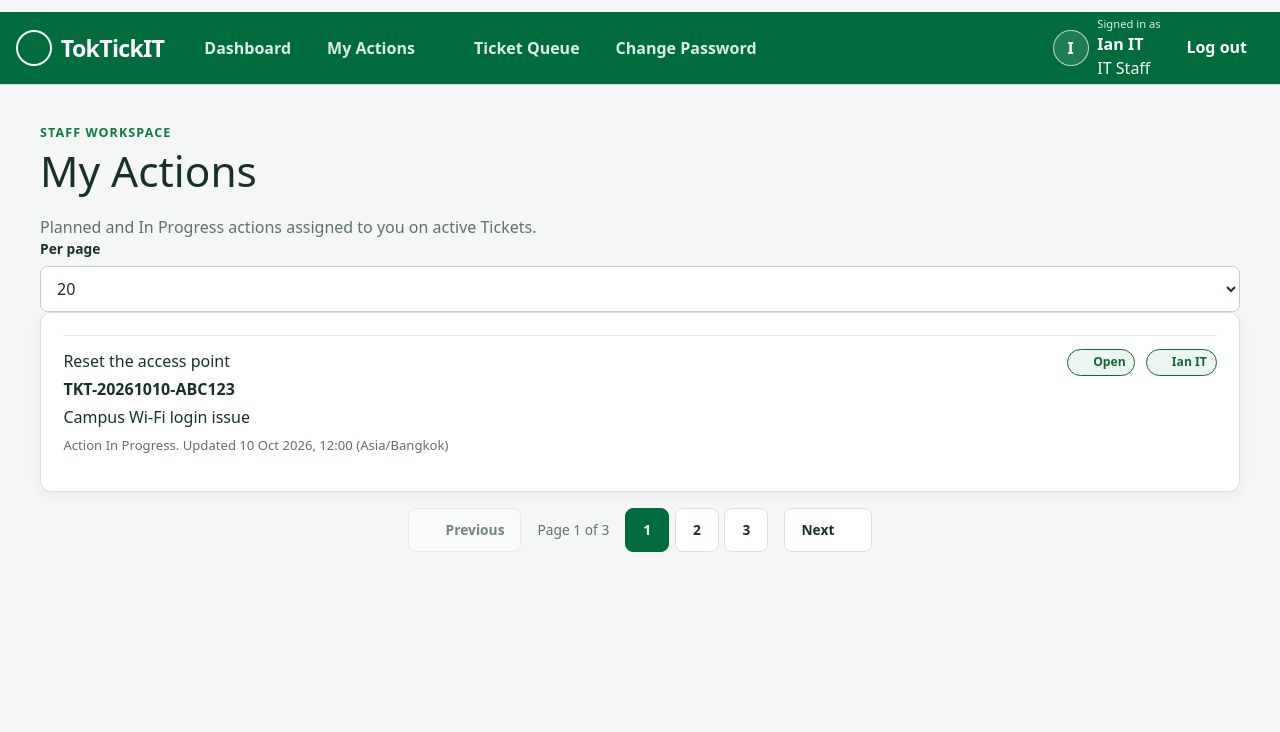
it: Staff My Actions UI › moves between pages with Previous, Next, and numbered controls
Check: the navigation bar named "My Actions pages" is shown, box [408,508,872,552]
Check: the text "Page 1 of 3" is shown, box [538,520,609,540]
Click the button "Next" at (828, 530), box [784,508,872,552]
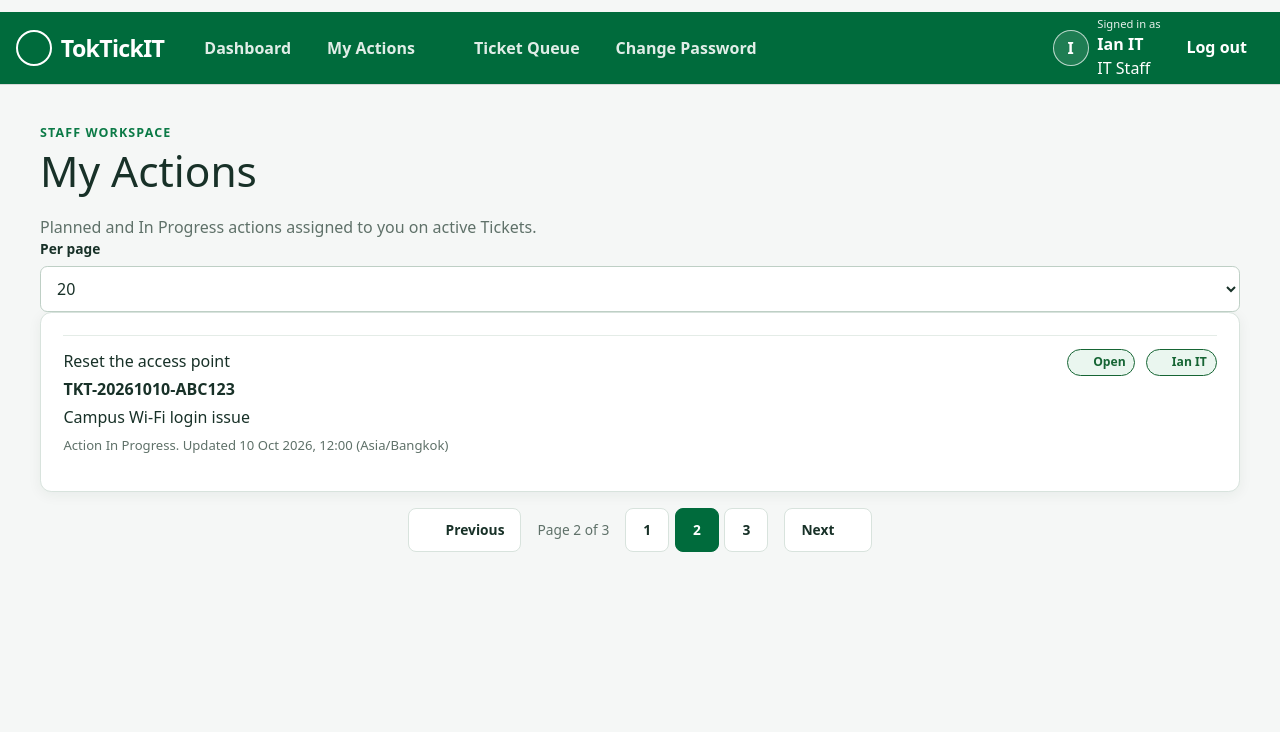
Check: the text "Page 2 of 3" is shown, box [538,520,609,540]
Click the button named "Go to page 3" at (746, 530), box [724,508,768,552]
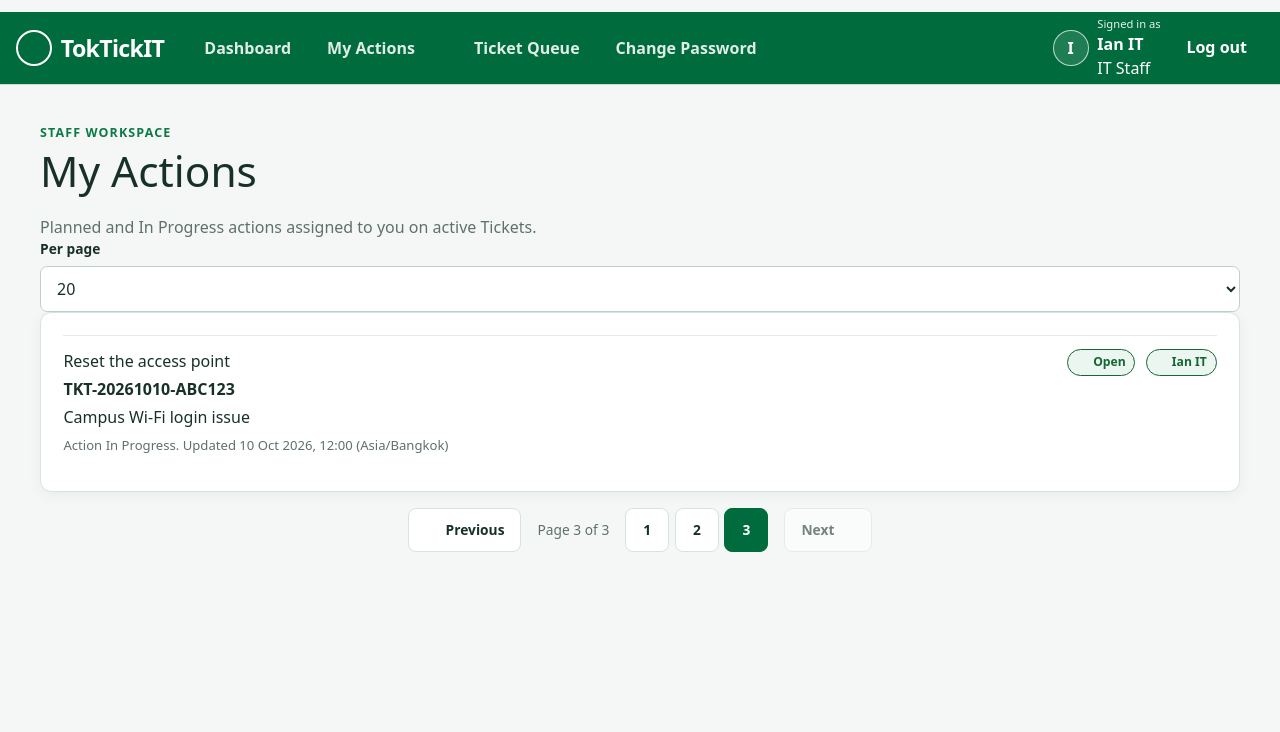
Check: the text "Page 3 of 3" is shown, box [538,520,609,540]
Check: the button "Next" is disabled, box [784,508,872,552]
Click the button "Previous" at (465, 530), box [408,508,522,552]
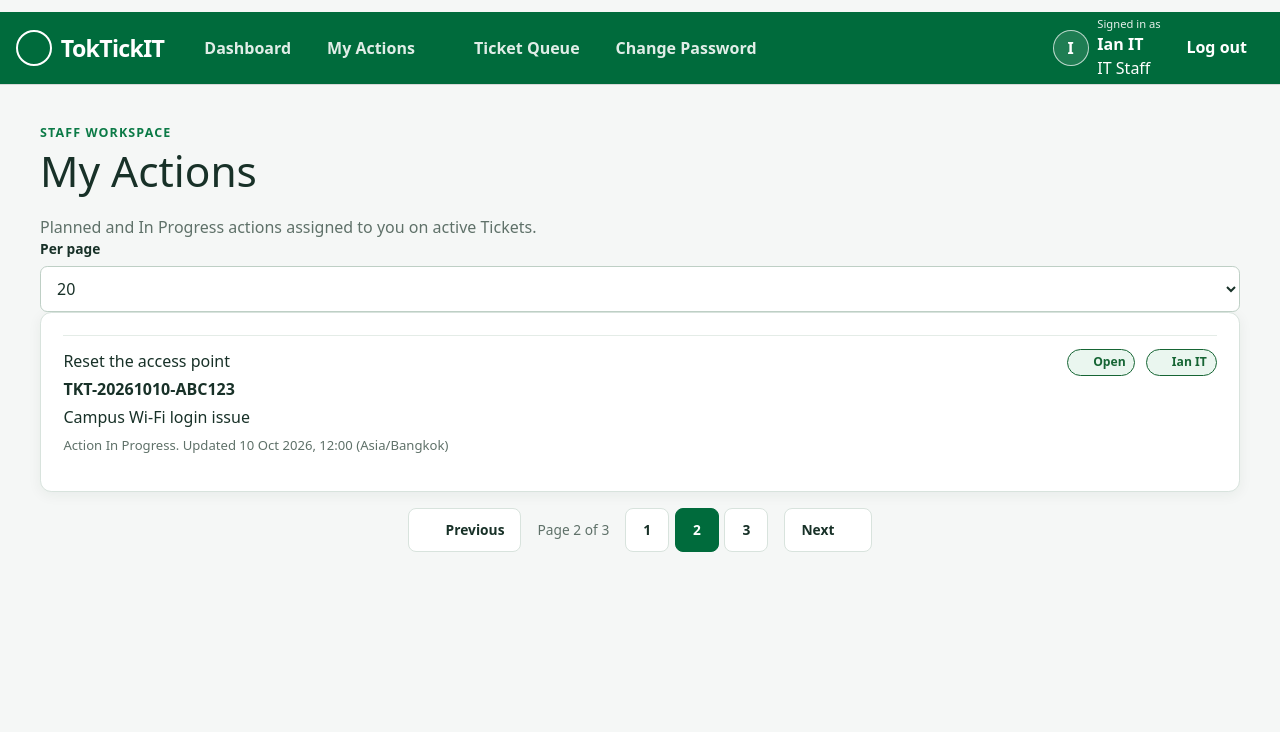
Check: the text "Page 2 of 3" is shown, box [538,520,609,540]
